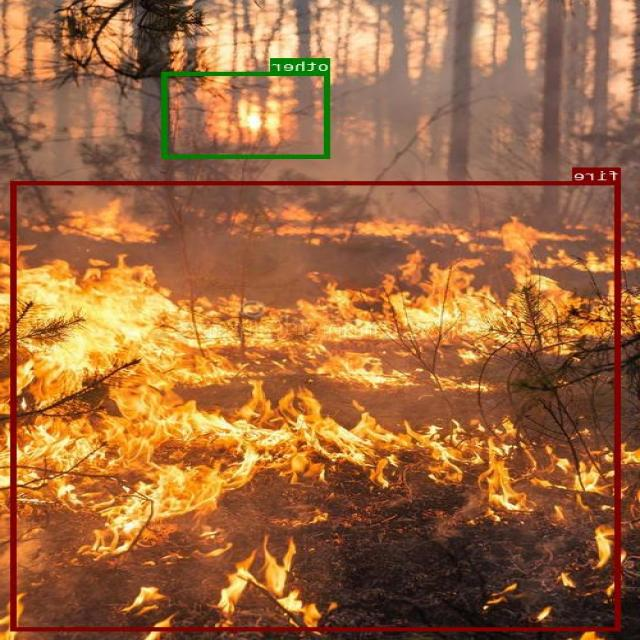fire: (13, 181, 622, 630)
other: (163, 72, 331, 158)
